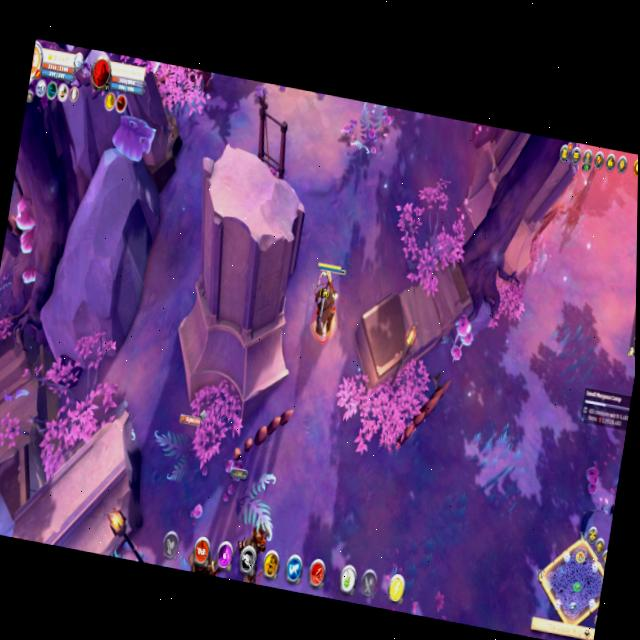ore: (306, 263, 347, 345), (231, 518, 274, 587), (180, 543, 227, 580)
red: (301, 259, 345, 349)
